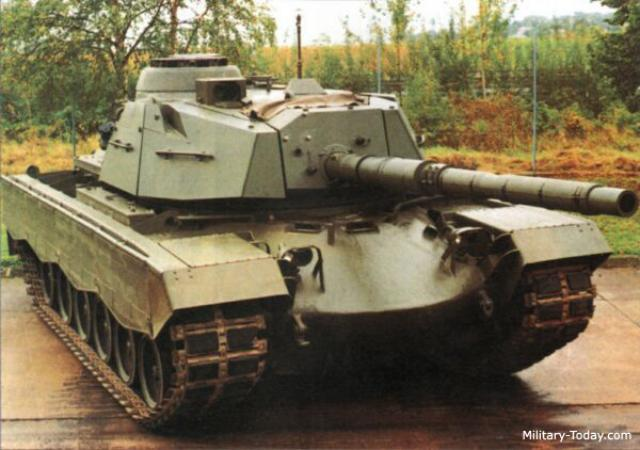tank: (3, 61, 594, 387)
